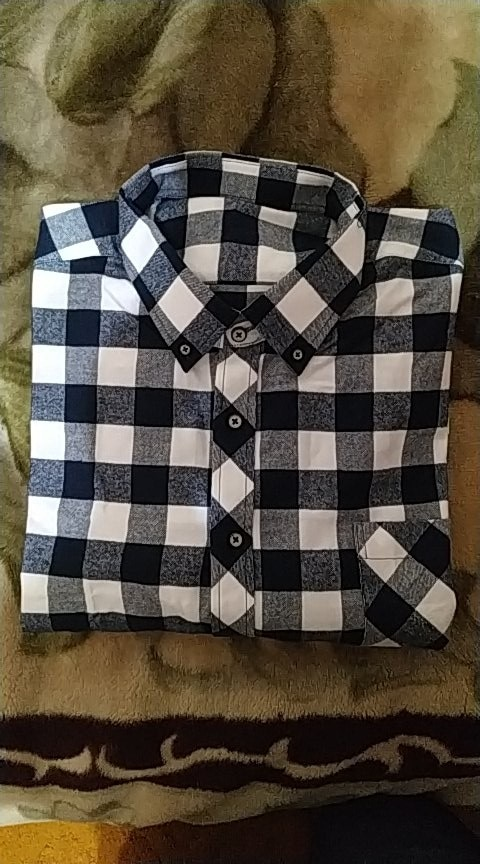shirts: (31, 141, 452, 620)
